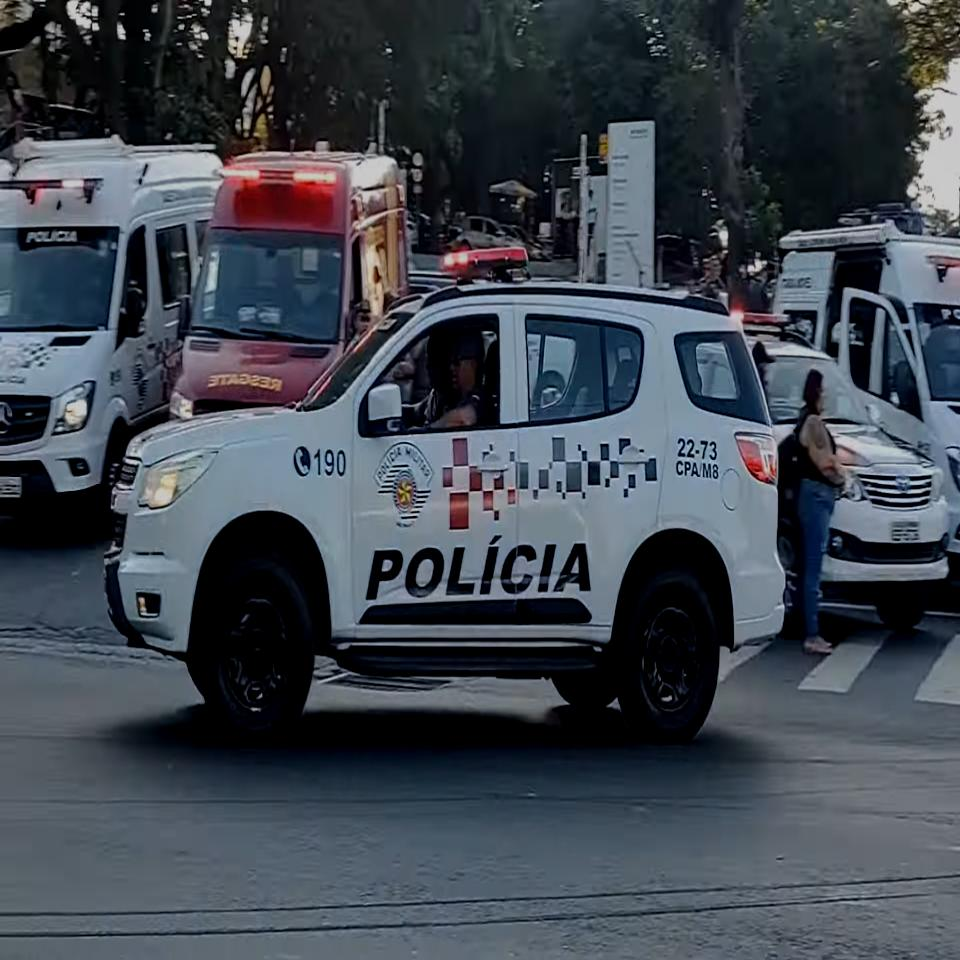viatura: (100, 236, 792, 739)
